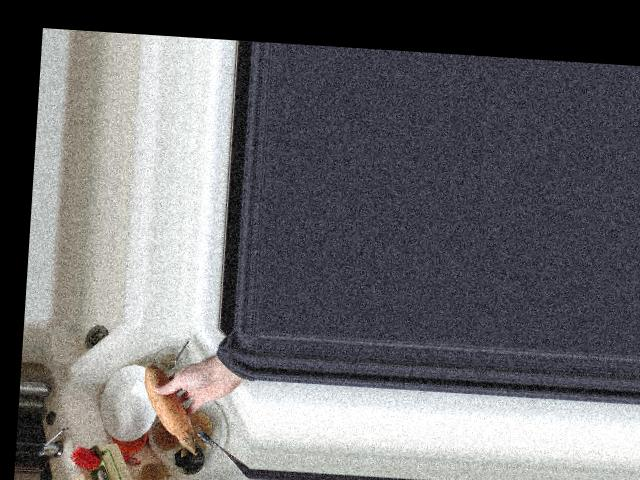sweet_potato: (137, 363, 205, 453)
